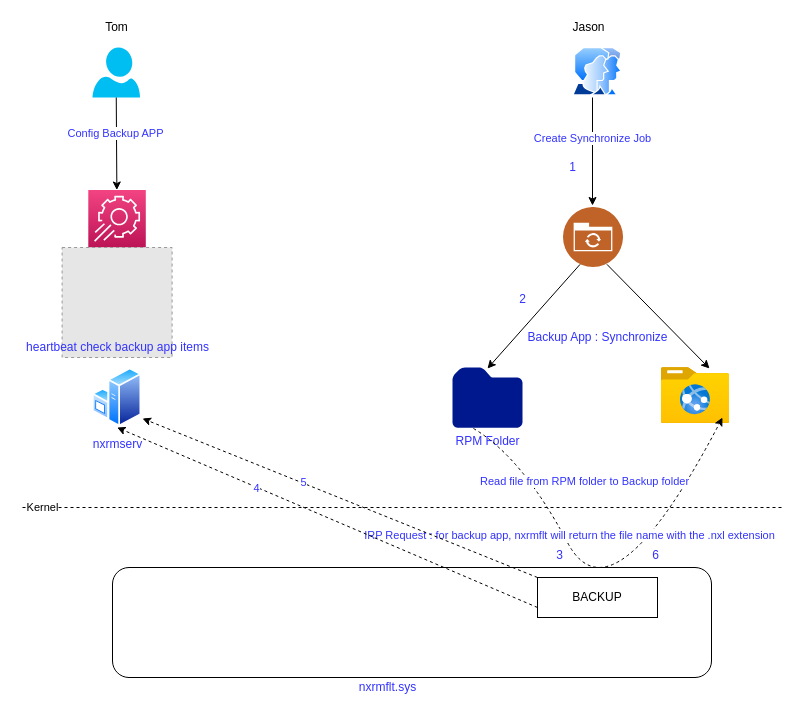
This 801x714 diagram has some shape labels left out. Grey dashed boxes stand in for pictures. Here are the shapes that lost their labels. From the top down, the centre of each, then its label:
At [593,237]: "Backup App: GoodSync".
At [695,395]: "Backup Folde".
